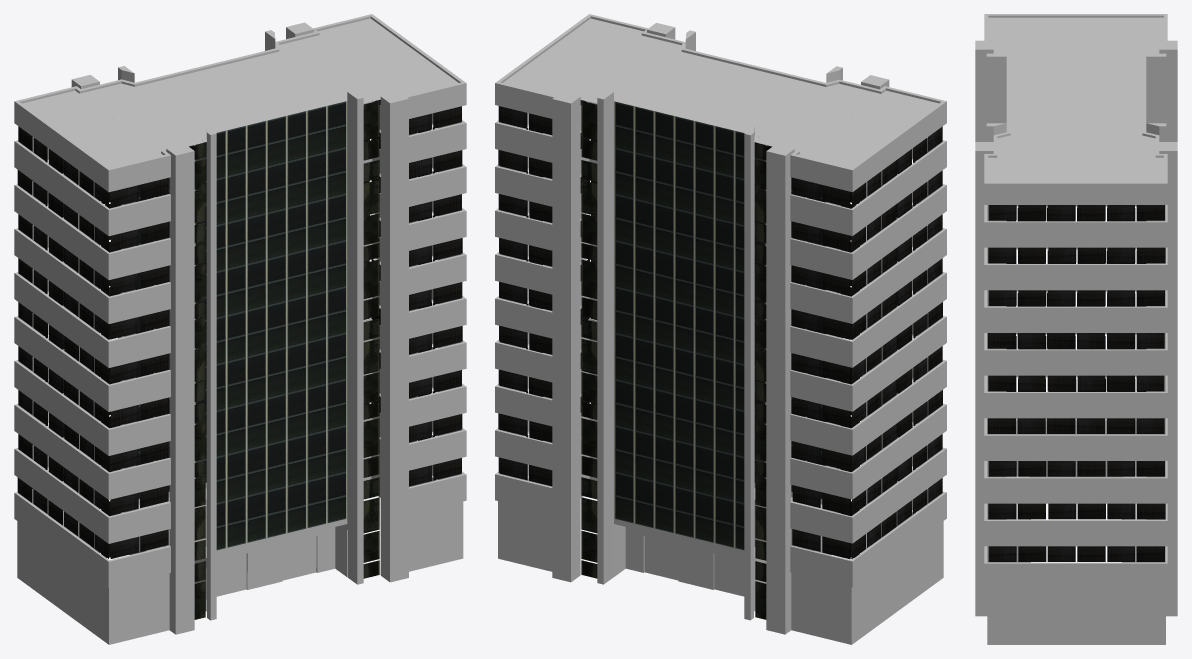
3 views of the same model, side by side, from view 1: azimuth 30°, elevation 25°; view 2: azimuth 150°, elevation 25°; view 3: azimuth 270°, elevation 25° (orthographic). The views are drawn at different scales.
Visible parts, largest first — view 1: BC-095; view 2: BC-095; view 3: BC-095.
Part boxes in pixels (bbox=[...]): BC-095: bbox=[14, 14, 466, 644]; BC-095: bbox=[495, 14, 946, 644]; BC-095: bbox=[975, 14, 1177, 644].
Size of what is drawn, in the model's own units: 25.56 by 33.14 by 12.89.
